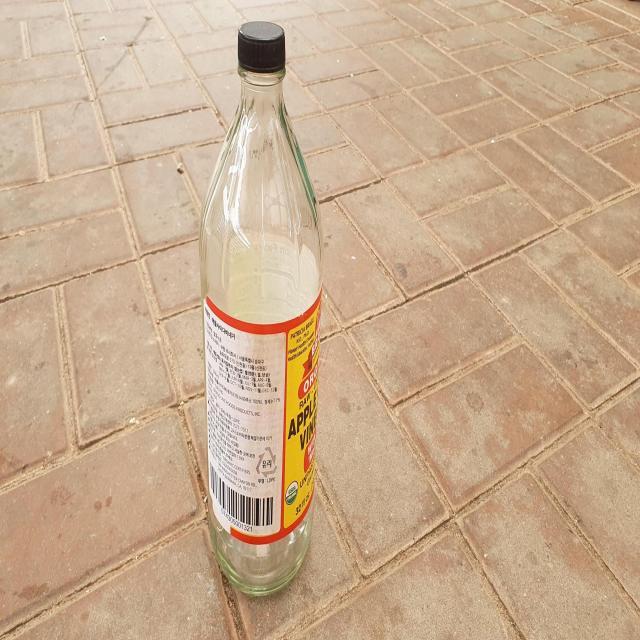glass: (199, 20, 323, 594)
